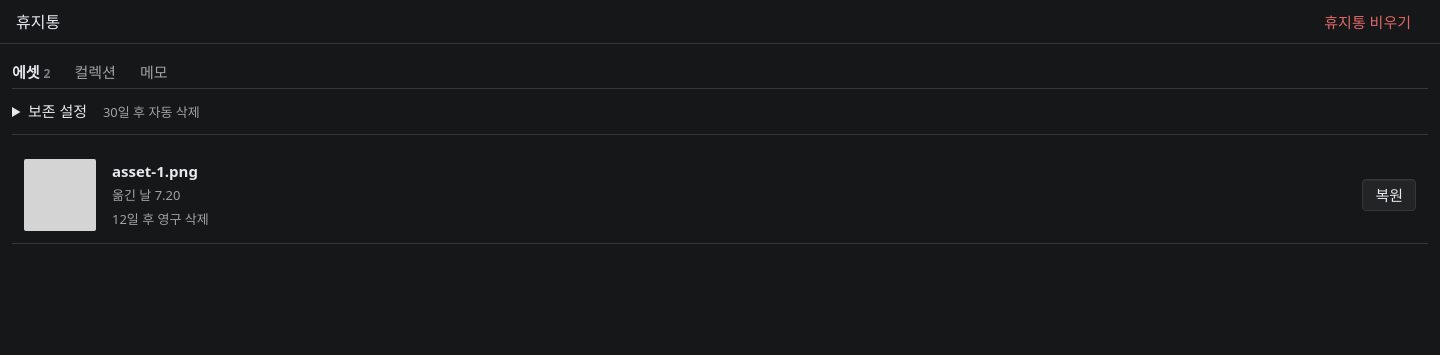
Test case: preserves a dirty retention draft during refresh and cancels to the latest saved value
Step 1. Click the heading "보존 설정 30일 후 자동 삭제" → (114, 111), box top-left (28, 101), bottom-right (200, 121)
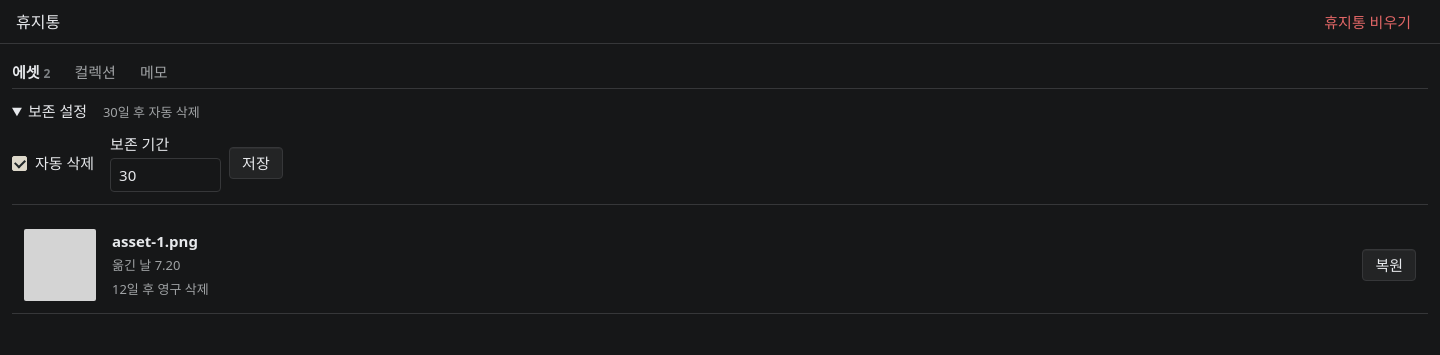
expect the number field labelled "보존 기간" holds "30": met
Step 2. Clear the number field labelled "보존 기간" → (166, 175), box top-left (110, 158), bottom-right (221, 192)
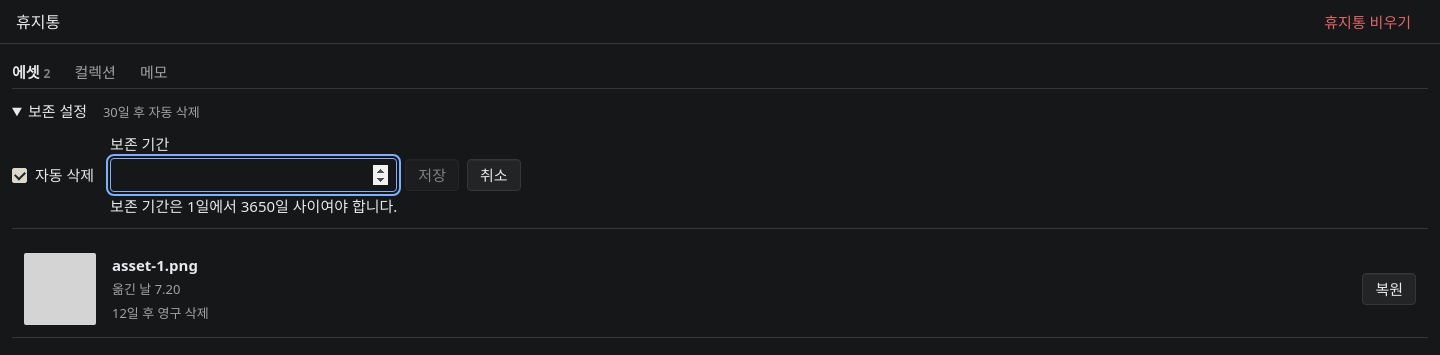
Step 3. Type "90" into the number field labelled "보존 기간" → (254, 175), box top-left (110, 158), bottom-right (397, 192)
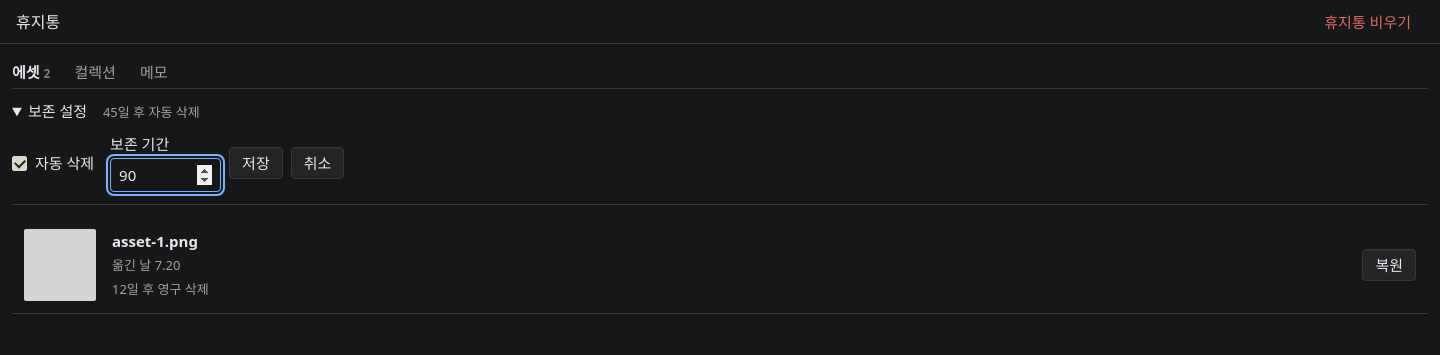
expect the text "45일 후 자동 삭제" is shown: met, box top-left (103, 103), bottom-right (200, 121)
Step 4. Click the button "취소" → (318, 163), box top-left (291, 147), bottom-right (344, 179)
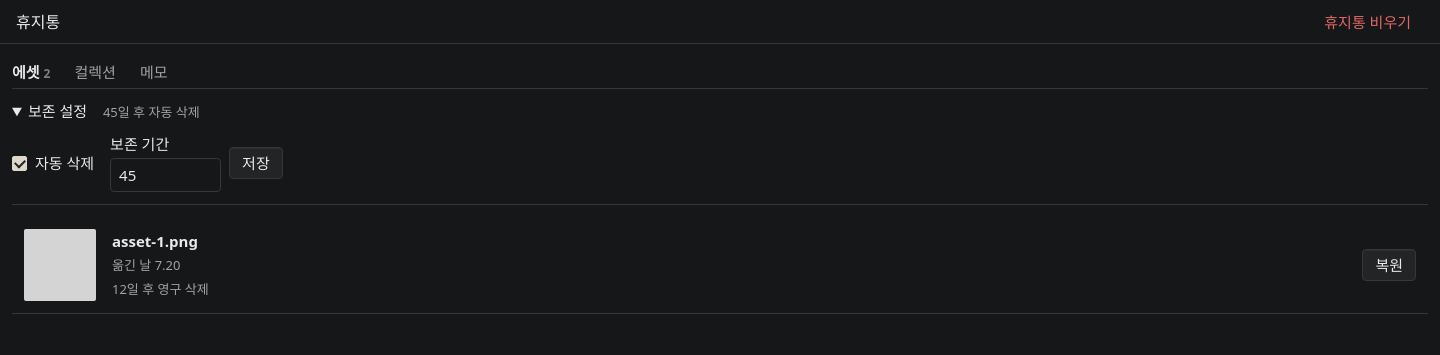
expect the number field labelled "보존 기간" holds "45": met, box top-left (110, 158), bottom-right (221, 192)
